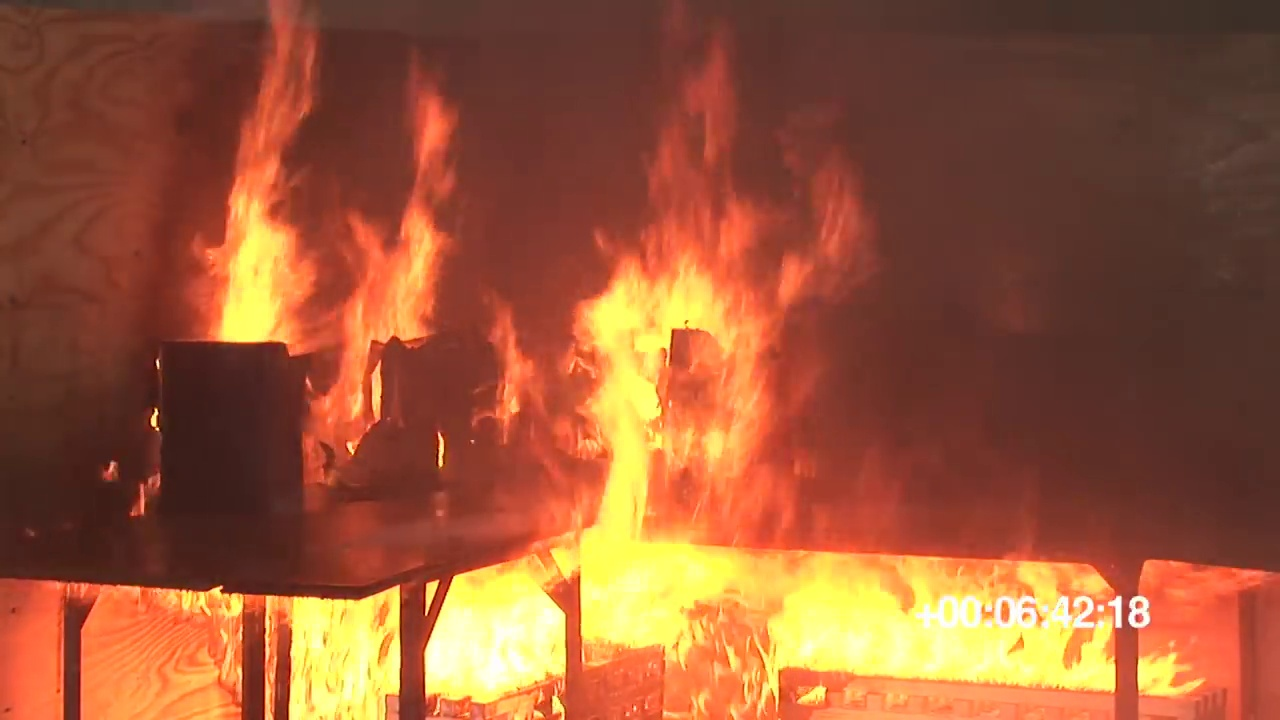fire: (557, 46, 866, 542), (437, 551, 1201, 702), (303, 52, 459, 476), (177, 1, 321, 343), (287, 590, 389, 720), (475, 291, 537, 442)
